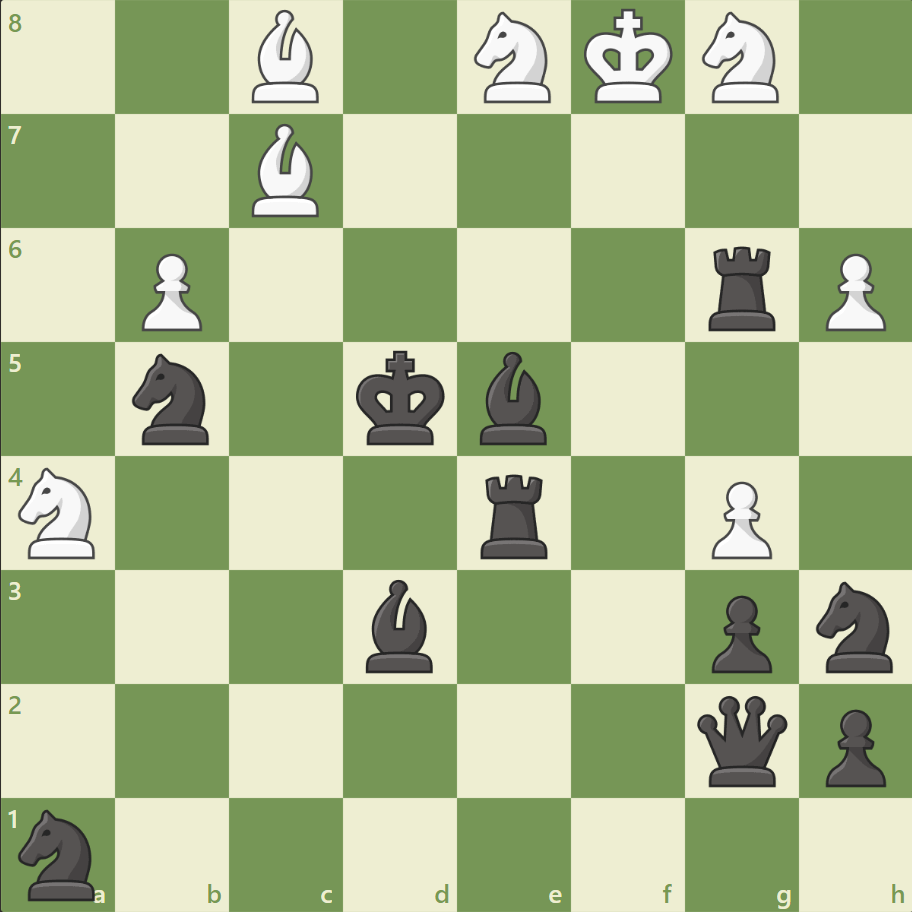B: (244, 6, 328, 109), (244, 120, 328, 222)
K: (579, 4, 679, 112)
N: (465, 7, 562, 110), (692, 7, 789, 110), (11, 461, 108, 564)
P: (133, 246, 208, 337), (701, 473, 776, 564), (815, 246, 889, 337)
b: (471, 347, 555, 449), (358, 574, 442, 676)
k: (351, 344, 451, 452)
n: (124, 348, 222, 450), (806, 575, 903, 677), (11, 802, 108, 904)
p: (701, 586, 776, 677), (815, 700, 889, 791)
q: (691, 690, 790, 789)
r: (700, 239, 783, 336), (473, 466, 556, 563)
